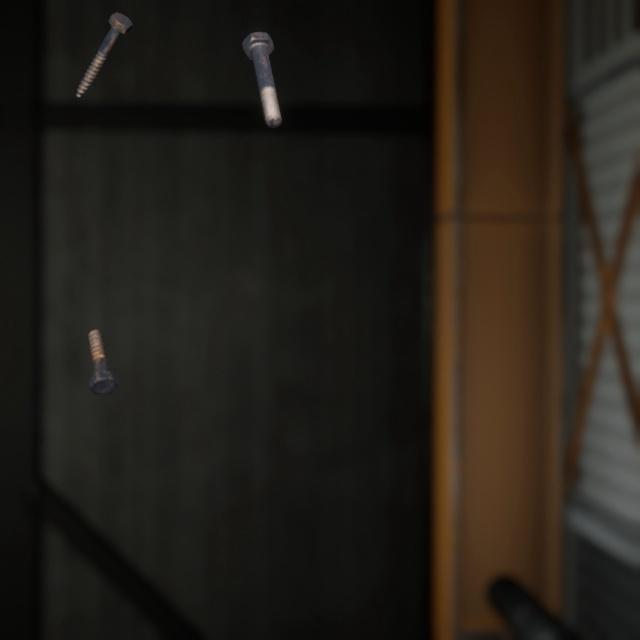bolt: (71, 0, 137, 92), (237, 16, 286, 120), (83, 306, 123, 380)
